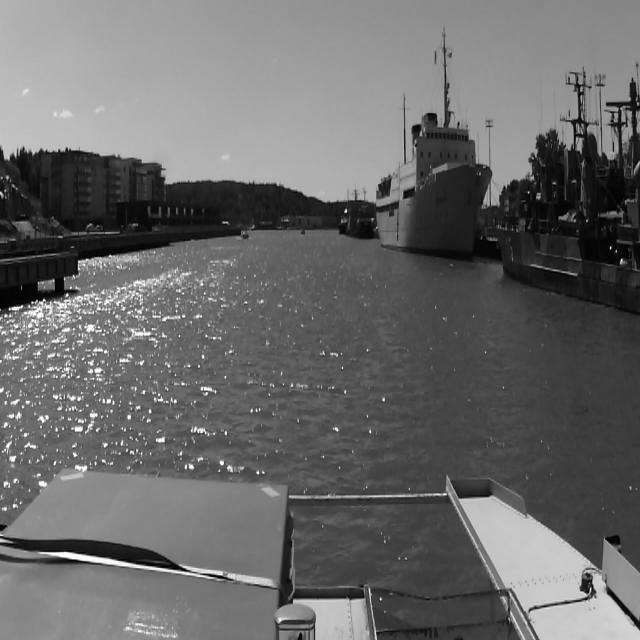ship: (496, 64, 640, 313), (368, 101, 496, 255), (344, 199, 384, 244), (338, 193, 354, 232), (301, 226, 305, 234)
